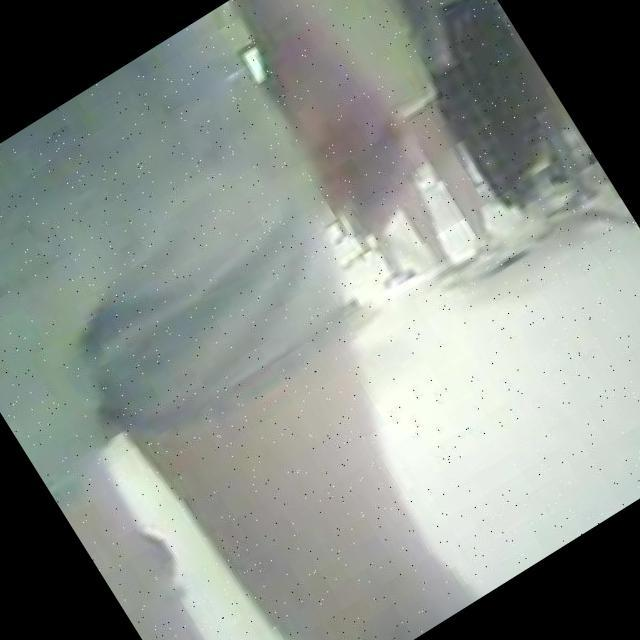person: (0, 0, 632, 640), (255, 0, 560, 304), (344, 0, 618, 242)
